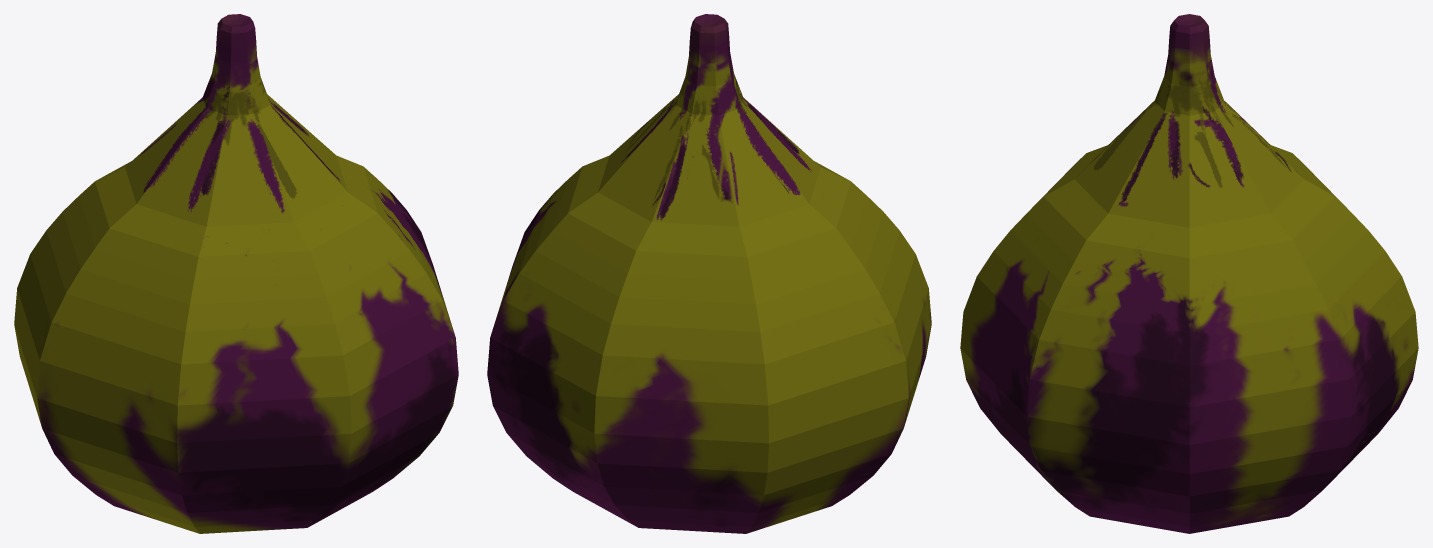
File: Fico.fbx
The picture shows the model from 3 angles, left to right: view 1: azimuth 30°, elevation 25°; view 2: azimuth 150°, elevation 25°; view 3: azimuth 270°, elevation 25°; orthographic projection.
Parts seen in each view (by area): view 1: Fico; view 2: Fico; view 3: Fico.
Part boxes in pixels (x1,y1,x2,y2): Fico: (14,14,458,533); Fico: (487,14,931,533); Fico: (960,14,1418,533).
Size of the model in its own units: 91.8 by 102 by 91.8.
1 material, 1 textured.
